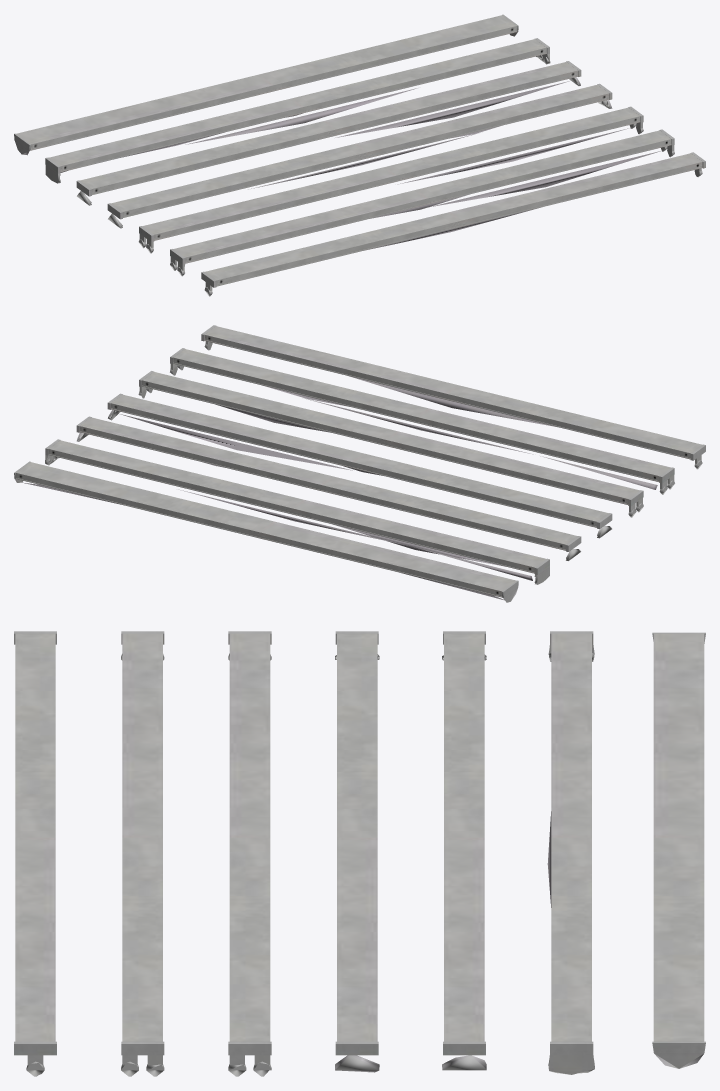
The model's file is mounted_fluorescent_lights.glb.
3 views of the same model, one above another, from view 1: azimuth 30°, elevation 25°; view 2: azimuth 150°, elevation 25°; view 3: azimuth 270°, elevation 25° (orthographic). The views are drawn at different scales.
Visible parts, largest first — view 1: mounted_fluorescent_lights_b, mounted_fluorescent_lights_g, mounted_fluorescent_lights_f, mounted_fluorescent_lights_e, mounted_fluorescent_lights_c, mounted_fluorescent_lights_d, mounted_fluorescent_lights_a; view 2: mounted_fluorescent_lights_g, mounted_fluorescent_lights_f, mounted_fluorescent_lights_b, mounted_fluorescent_lights_d, mounted_fluorescent_lights_a, mounted_fluorescent_lights_c, mounted_fluorescent_lights_e; view 3: mounted_fluorescent_lights_g, mounted_fluorescent_lights_f, mounted_fluorescent_lights_c, mounted_fluorescent_lights_b, mounted_fluorescent_lights_d, mounted_fluorescent_lights_e, mounted_fluorescent_lights_a.
Part boxes in pixels (x1,y1,x2,y2): mounted_fluorescent_lights_b: (170, 129, 674, 276); mounted_fluorescent_lights_g: (14, 14, 518, 155); mounted_fluorescent_lights_f: (45, 38, 550, 183); mounted_fluorescent_lights_e: (76, 61, 581, 205); mounted_fluorescent_lights_c: (138, 106, 643, 253); mounted_fluorescent_lights_d: (107, 83, 612, 228); mounted_fluorescent_lights_a: (201, 152, 705, 296); mounted_fluorescent_lights_g: (14, 461, 518, 602); mounted_fluorescent_lights_f: (45, 439, 549, 584); mounted_fluorescent_lights_b: (170, 348, 674, 494); mounted_fluorescent_lights_d: (107, 393, 612, 538); mounted_fluorescent_lights_a: (201, 325, 705, 469); mounted_fluorescent_lights_c: (138, 371, 643, 517); mounted_fluorescent_lights_e: (76, 416, 581, 560); mounted_fluorescent_lights_g: (652, 632, 705, 1068); mounted_fluorescent_lights_f: (547, 631, 594, 1074); mounted_fluorescent_lights_c: (228, 631, 271, 1076); mounted_fluorescent_lights_b: (121, 631, 164, 1076); mounted_fluorescent_lights_d: (335, 631, 379, 1072); mounted_fluorescent_lights_e: (442, 631, 486, 1070); mounted_fluorescent_lights_a: (14, 631, 56, 1076).
Size of the model in its own units: 0.9122 by 0.0351 by 0.6454.
Materials: 2 (2 with a texture image).
